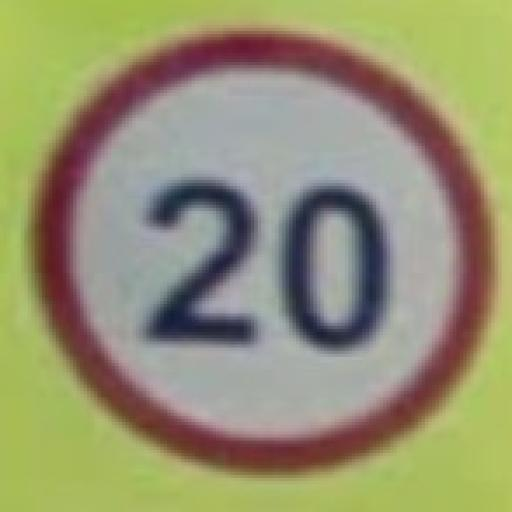traffic_sign: (25, 20, 506, 485)
